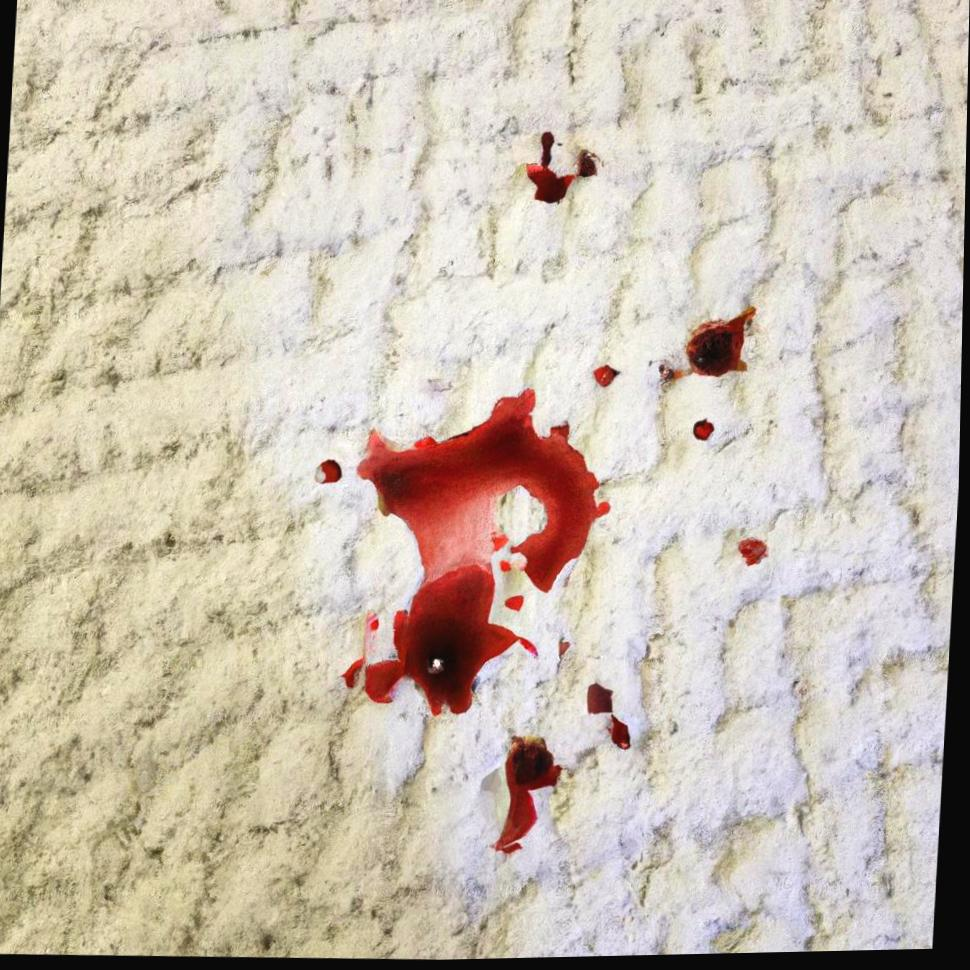Fire: (358, 388, 613, 718), (498, 736, 567, 855), (686, 308, 756, 381), (525, 133, 575, 207), (608, 715, 634, 752), (589, 684, 617, 717), (575, 150, 601, 179), (594, 367, 622, 390), (321, 460, 344, 485), (694, 421, 715, 444)
